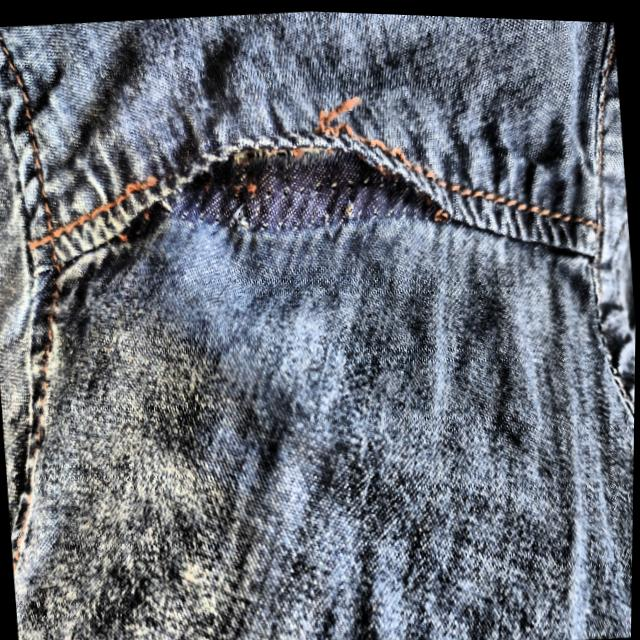seam: (145, 85, 449, 313)
